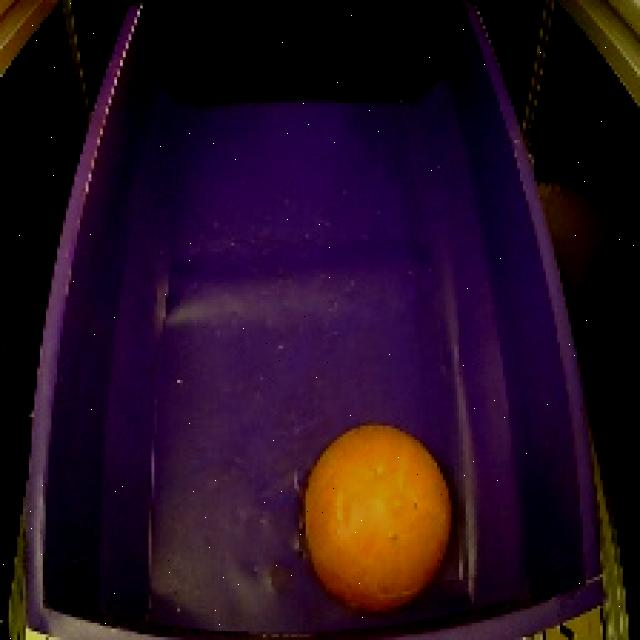carrots: (295, 421, 463, 614)
